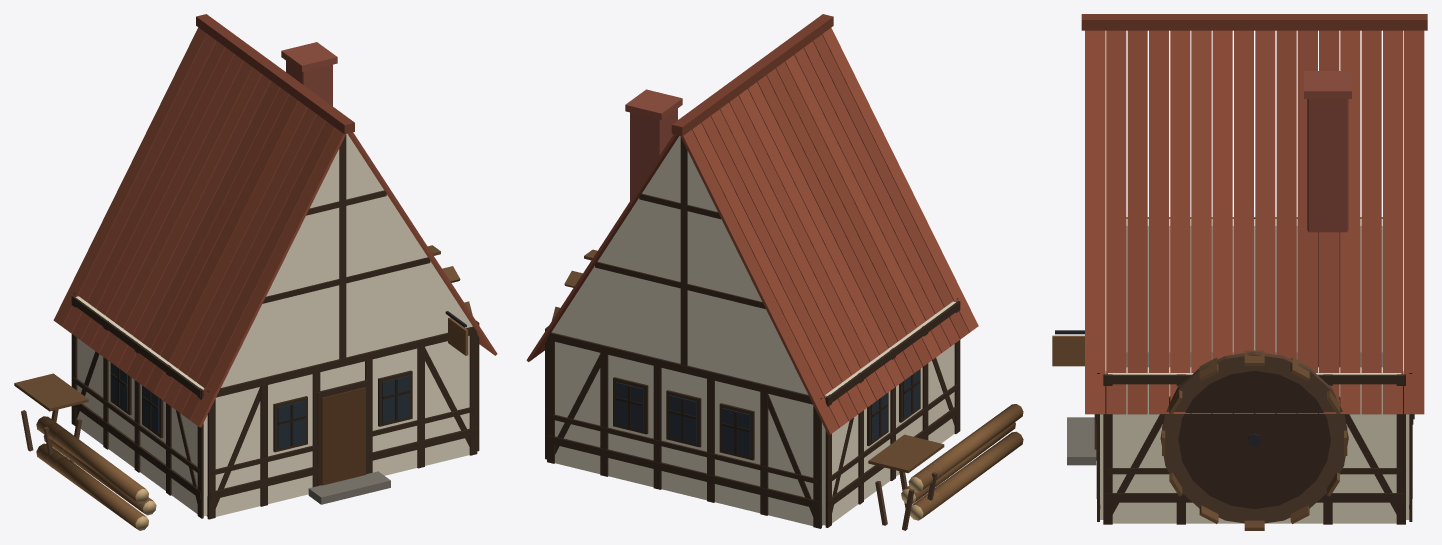
File: sawmill_2.glb
The picture shows the model from 3 angles, left to right: view 1: azimuth 30°, elevation 25°; view 2: azimuth 150°, elevation 25°; view 3: azimuth 270°, elevation 25°; orthographic projection. The views are drawn at different scales.
Parts seen in each view (by area): view 1: sawmill2_tiles, sawmill2_plaster, sawmill2_wood, sawmill2_log, sawmill2_glass, sawmill2_brick, sawmill2_stone; view 2: sawmill2_tiles, sawmill2_plaster, sawmill2_wood, sawmill2_log, sawmill2_glass, sawmill2_brick; view 3: sawmill2_tiles, sawmill2_wood, sawmill2_plaster, sawmill2_brick, sawmill2_stone.
Boxes of the visible parts, x1=… form: sawmill2_tiles: x1=53, y1=14, x2=497, y2=427; sawmill2_plaster: x1=75, y1=133, x2=472, y2=516; sawmill2_wood: x1=14, y1=135, x2=479, y2=519; sawmill2_log: x1=36, y1=416, x2=156, y2=530; sawmill2_glass: x1=111, y1=363, x2=409, y2=448; sawmill2_brick: x1=281, y1=42, x2=337, y2=106; sawmill2_stone: x1=206, y1=471, x2=390, y2=516; sawmill2_tiles: x1=526, y1=14, x2=978, y2=435; sawmill2_plaster: x1=552, y1=136, x2=955, y2=525; sawmill2_wood: x1=545, y1=137, x2=960, y2=530; sawmill2_log: x1=901, y1=404, x2=1023, y2=520; sawmill2_glass: x1=615, y1=369, x2=919, y2=456; sawmill2_brick: x1=625, y1=89, x2=682, y2=200; sawmill2_tiles: x1=1081, y1=14, x2=1427, y2=414; sawmill2_wood: x1=1052, y1=217, x2=1413, y2=530; sawmill2_plaster: x1=1100, y1=30, x2=1409, y2=523; sawmill2_brick: x1=1304, y1=71, x2=1351, y2=367; sawmill2_stone: x1=1067, y1=352, x2=1382, y2=465.
Bounding box in the file's own units: 8.45 × 8.09 × 6.4.
